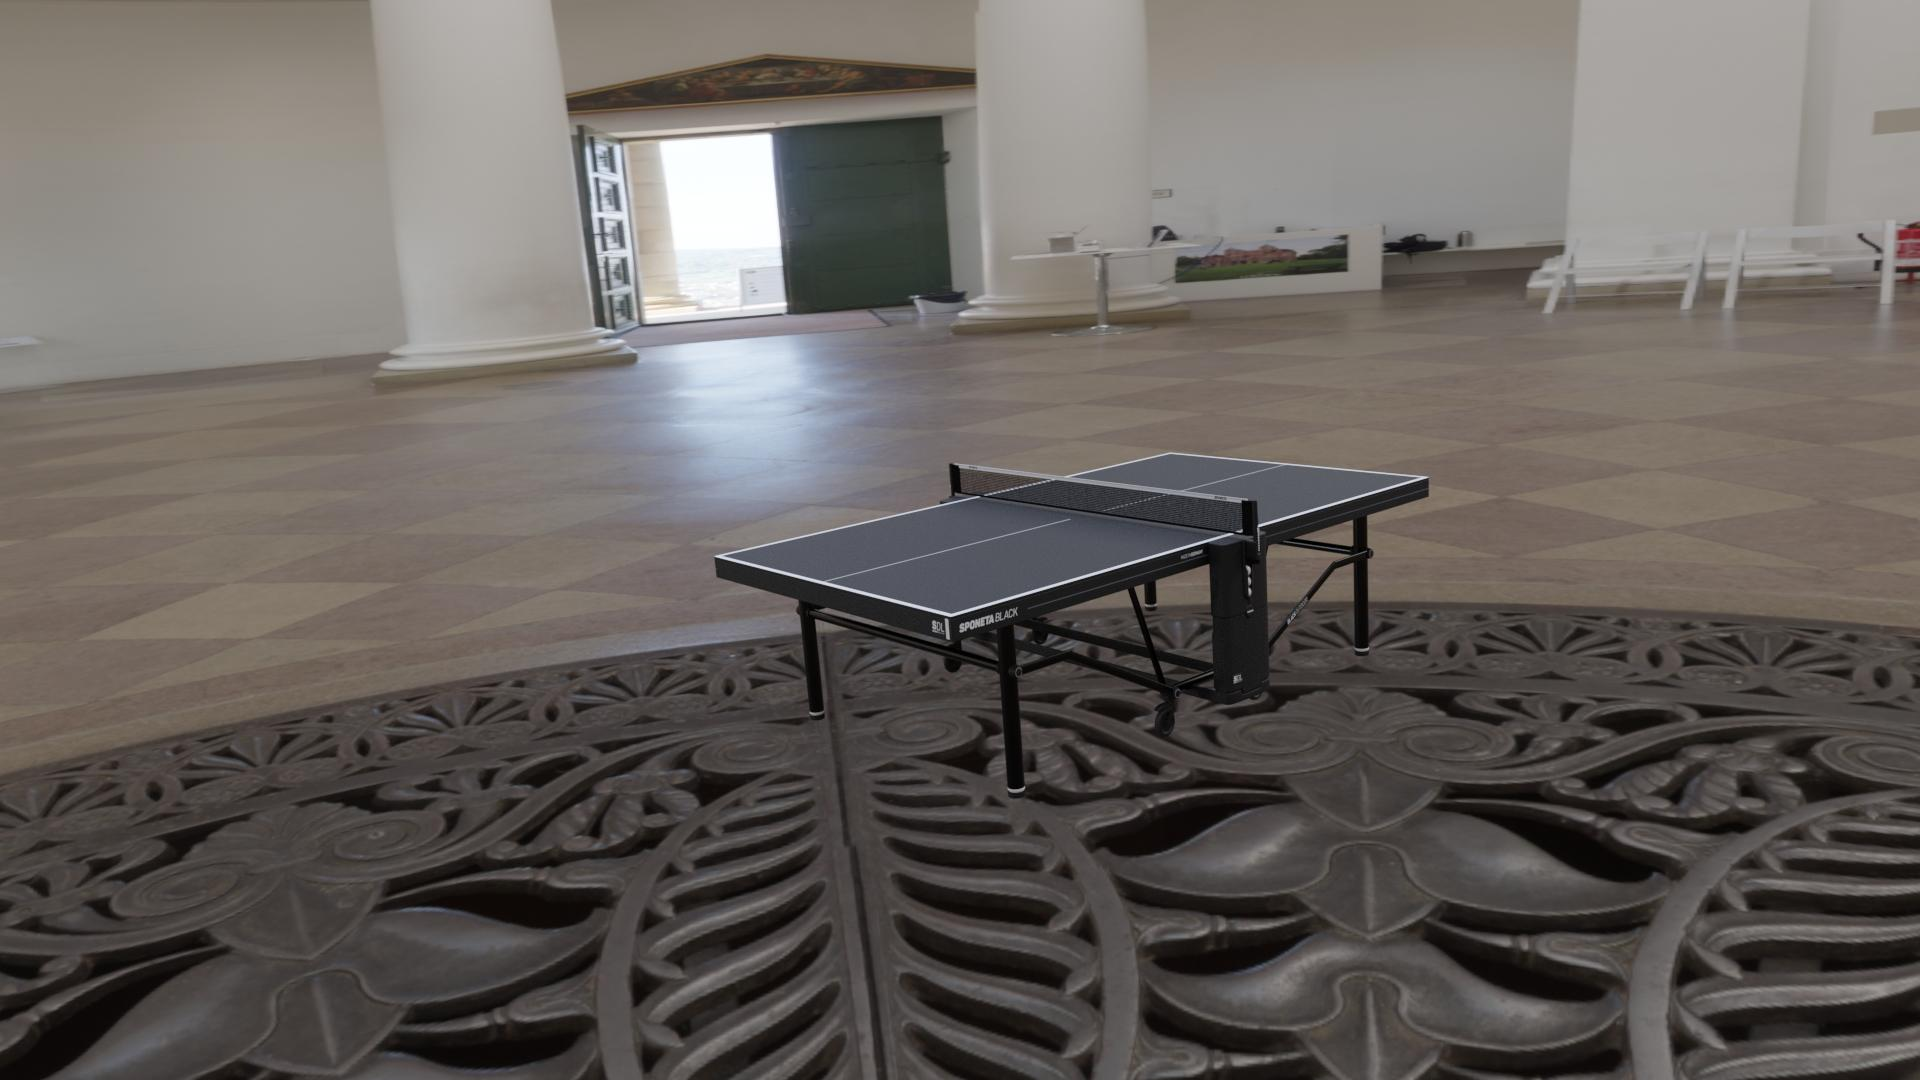table: (721, 454, 1423, 615)
